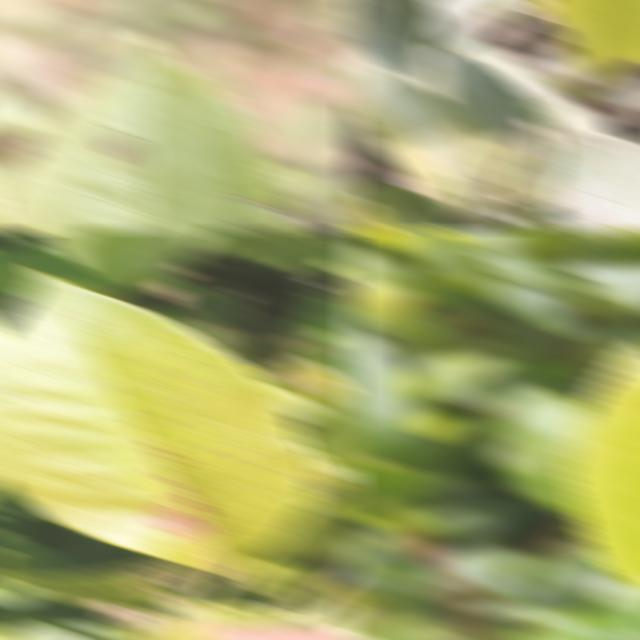Leaf: (0, 270, 318, 577), (0, 34, 298, 232), (345, 61, 494, 218), (433, 52, 548, 185), (489, 387, 590, 519), (40, 228, 221, 292), (345, 320, 419, 461), (538, 0, 640, 92), (345, 0, 441, 75), (292, 295, 359, 388), (355, 179, 462, 232), (198, 228, 338, 266), (422, 0, 524, 48), (565, 261, 640, 316), (508, 130, 558, 185), (0, 86, 47, 133)
